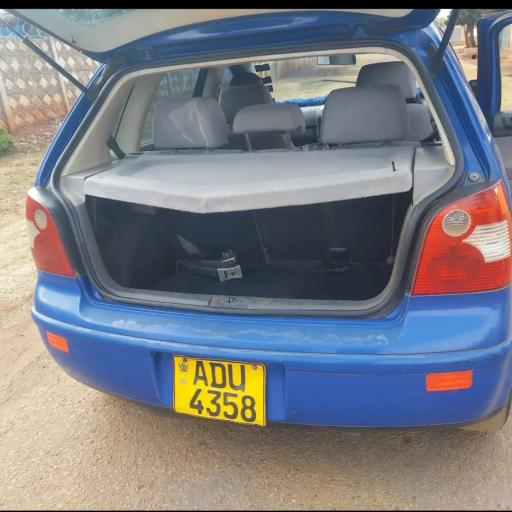number-plates: (172, 356, 262, 426)
